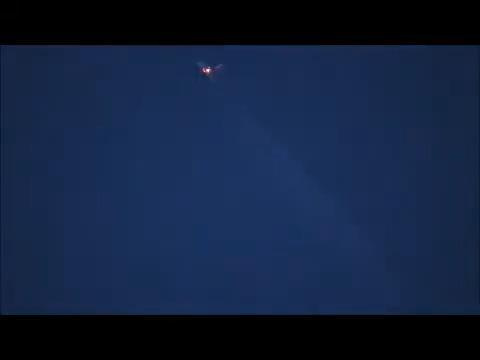Plane: (182, 54, 237, 86)
